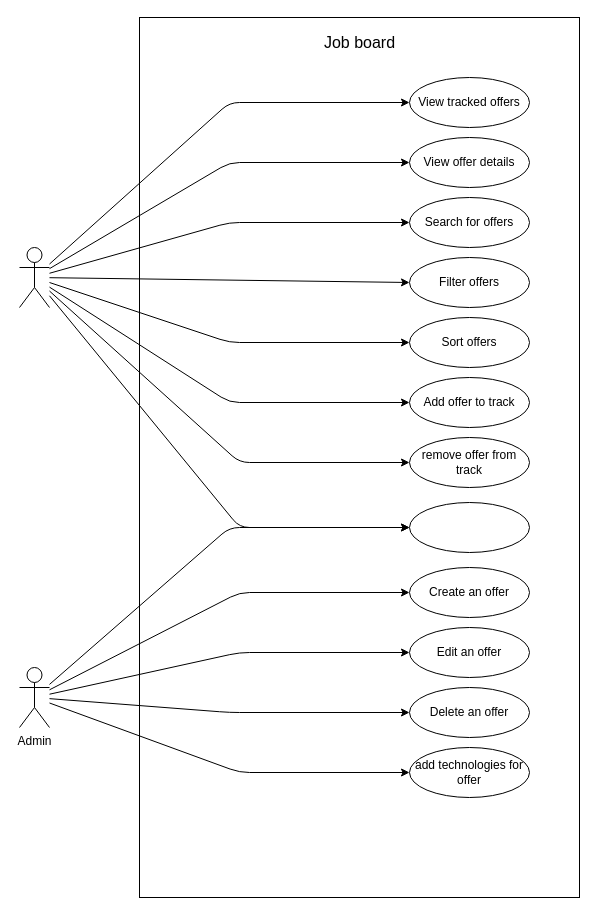
Some shapes in this 597 by 915 pixel diagram are drawn without their labels. The shapes that lost their labels are listed below. From the top down, each one's centre as x and y in pixels, then its label:
At point (34, 277): "User".
At point (469, 527): "View offers".
